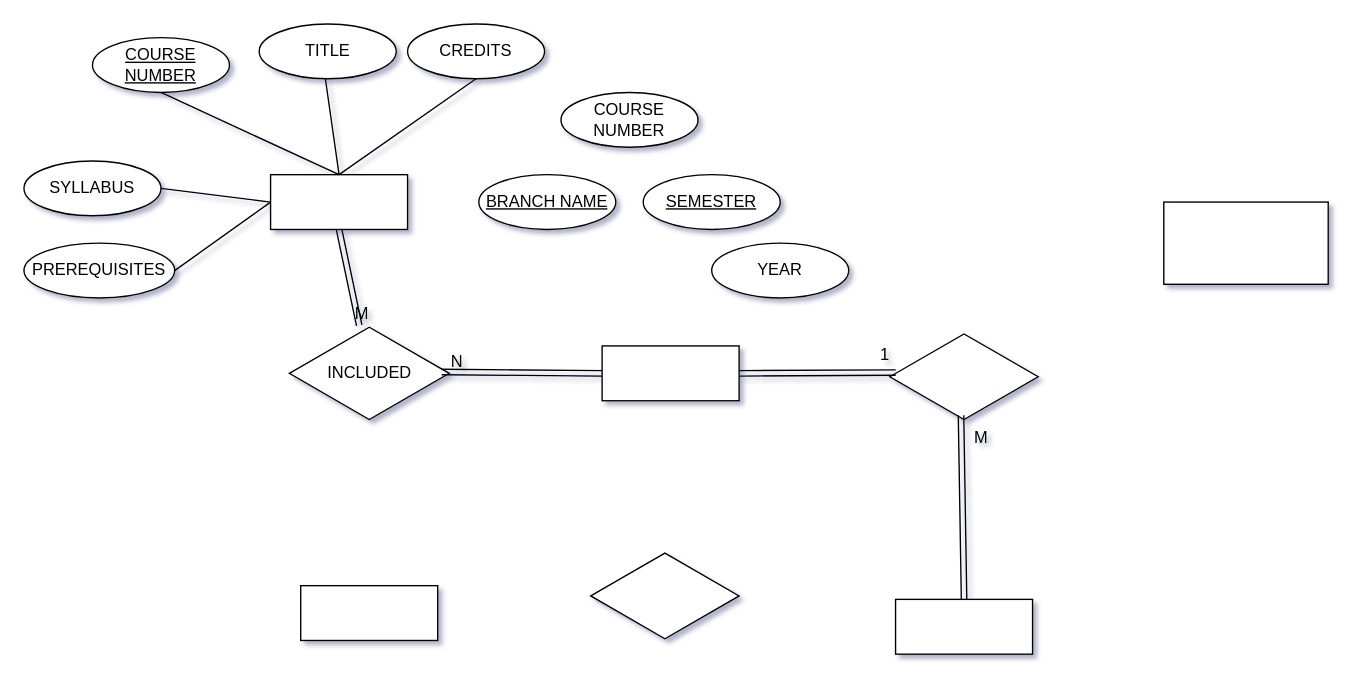
The diagram is 1360 pixels wide and 686 high, and some of its shapes have lost their labels. Here are the shapes that lost their labels. From the top down, the centre of each, then its label:
At [338,201]: "COURSE".
At [670,373]: "OFFERINGS".
At [368,612]: "INSTRUCTORS".
At [963,626]: "STUDENTS".
